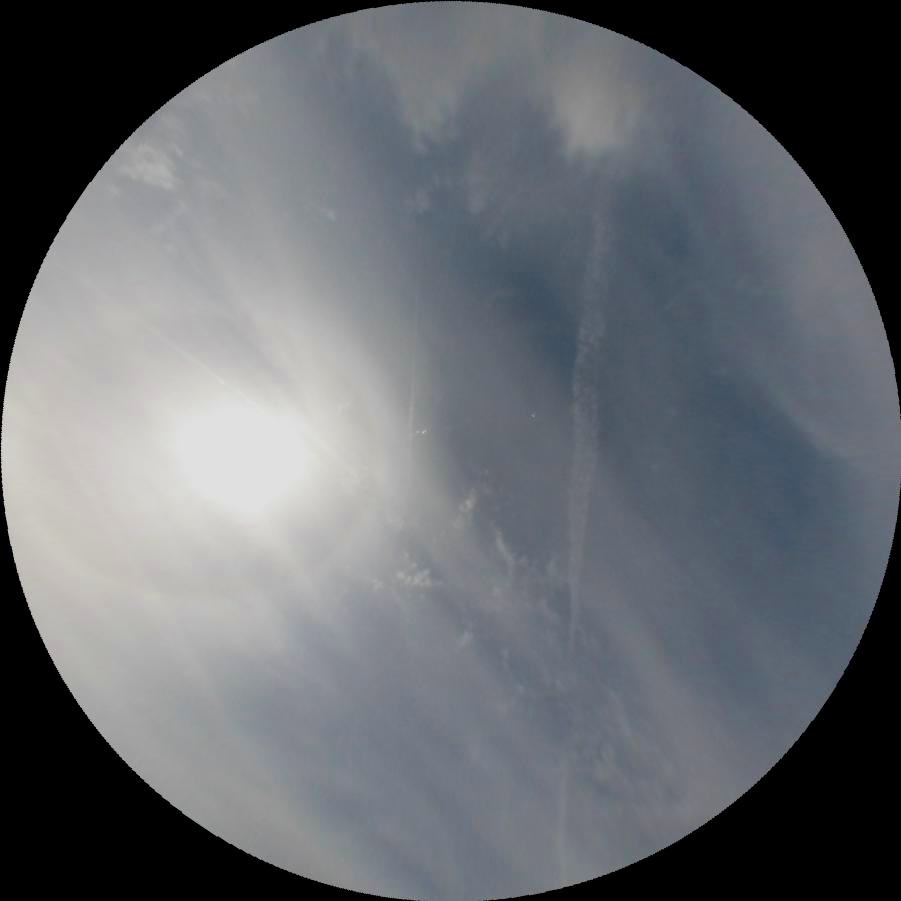contrail veryold: (522, 173, 630, 884)
contrail young: (404, 240, 424, 488)
parasite: (41, 256, 269, 410)
sun: (155, 379, 320, 531)
